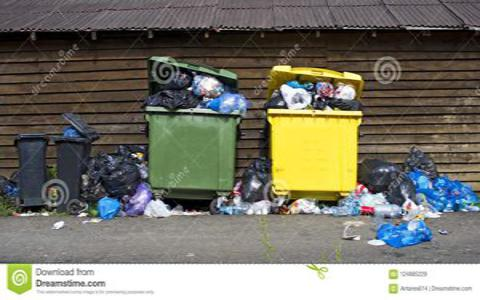overflowing garbage: (262, 52, 426, 247), (138, 52, 250, 229)
